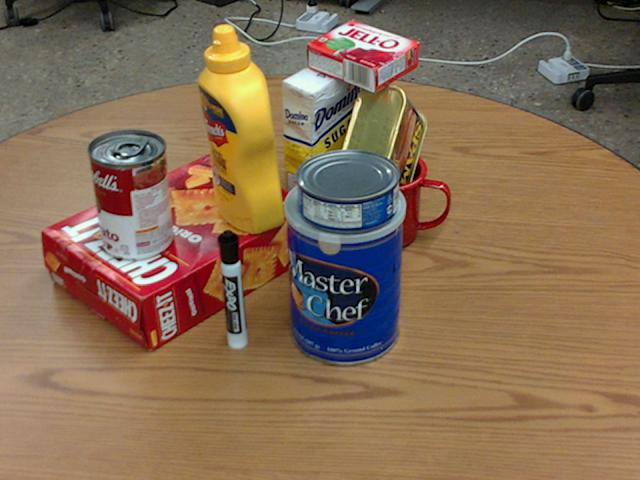cracker_box: (44, 156, 314, 352)
gelatin_box: (304, 21, 418, 91)
large_marker: (219, 230, 248, 349)
master_chef_can: (281, 169, 403, 363)
mug: (340, 145, 452, 250)
mustard_bottle: (196, 24, 283, 232)
potted_meat_can: (338, 83, 425, 202)
sugar_box: (282, 51, 366, 237)
tomato_soup_can: (87, 129, 172, 260)
tuna_fish_can: (295, 148, 399, 231)
